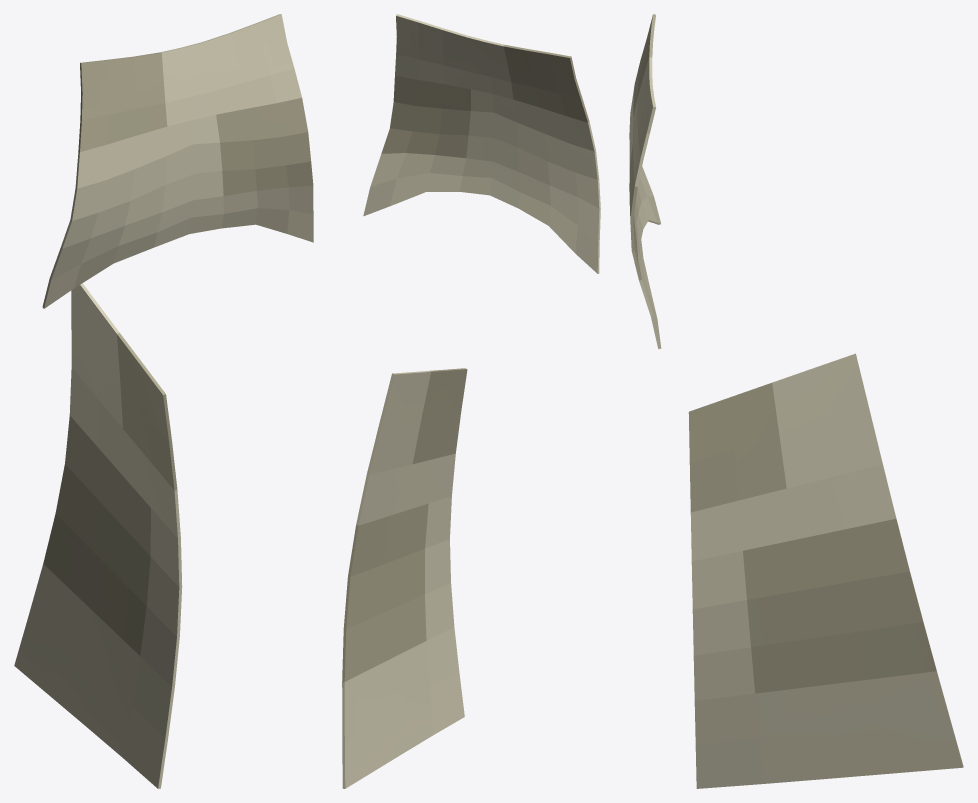
Rendered from MediumShip_1_Sails2.fbx.
The picture shows the model from 3 angles, left to right: view 1: azimuth 30°, elevation 25°; view 2: azimuth 150°, elevation 25°; view 3: azimuth 270°, elevation 25°; orthographic projection. The views are drawn at different scales.
Visible parts, largest first — view 1: MediumShip_1_Sails2; view 2: MediumShip_1_Sails2; view 3: MediumShip_1_Sails2.
Part boxes in pixels (x1,y1,x2,y2): MediumShip_1_Sails2: (14, 14, 313, 788); MediumShip_1_Sails2: (342, 14, 600, 788); MediumShip_1_Sails2: (629, 14, 963, 788).
Size of the model in its own units: 650 by 1765 by 735.
